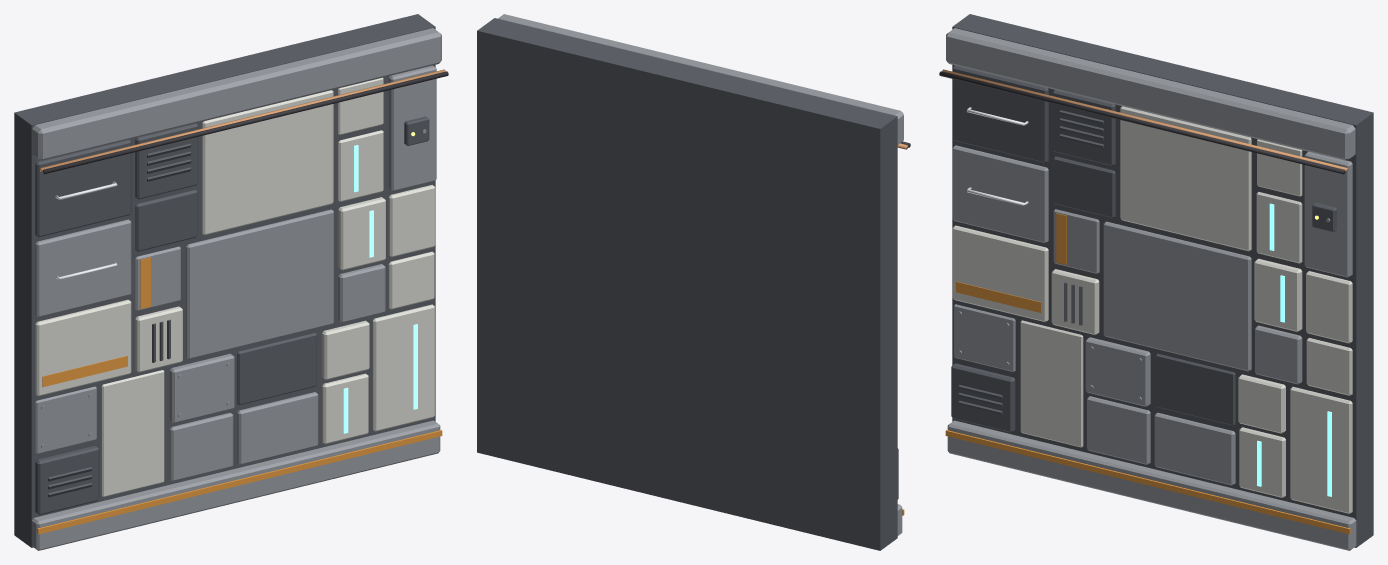
File: wall_plain_b.glb
3 renders of one model, left to right at view 1: azimuth 30°, elevation 25°; view 2: azimuth 150°, elevation 25°; view 3: azimuth 330°, elevation 25°, orthographic.
Parts seen in each view (by area): view 1: wall_plain_b; view 2: wall_plain_b; view 3: wall_plain_b.
Part boxes in pixels (x1,y1,x2,y2): wall_plain_b: (14, 14, 448, 550); wall_plain_b: (477, 14, 910, 550); wall_plain_b: (939, 14, 1373, 550).
Size of the model in its own units: 4 by 4 by 0.525.
